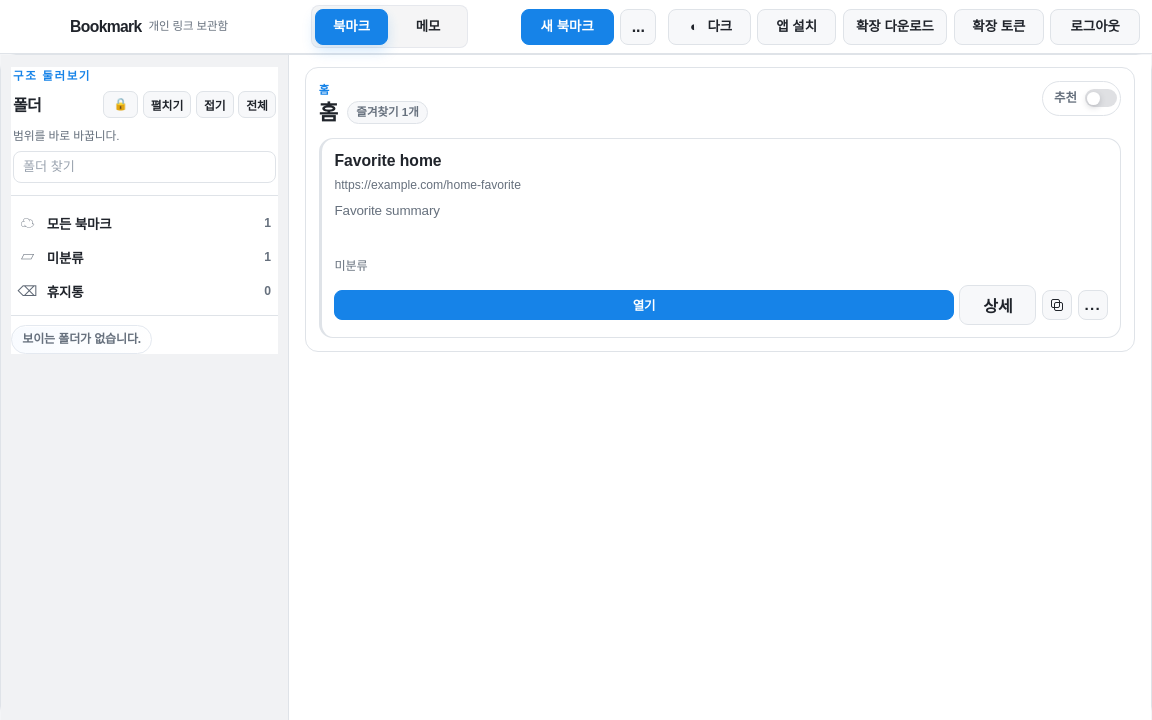
Test: bookmark dashboard › keeps home recommendations off until the recommendation toggle is enabled
This screenshot has width=1152, height=720.
Expected: the text "Home recommendation" is not shown
Click the button with aria-label "추천 보기". click: (1081, 98)
box: [1042,81,1121,116]
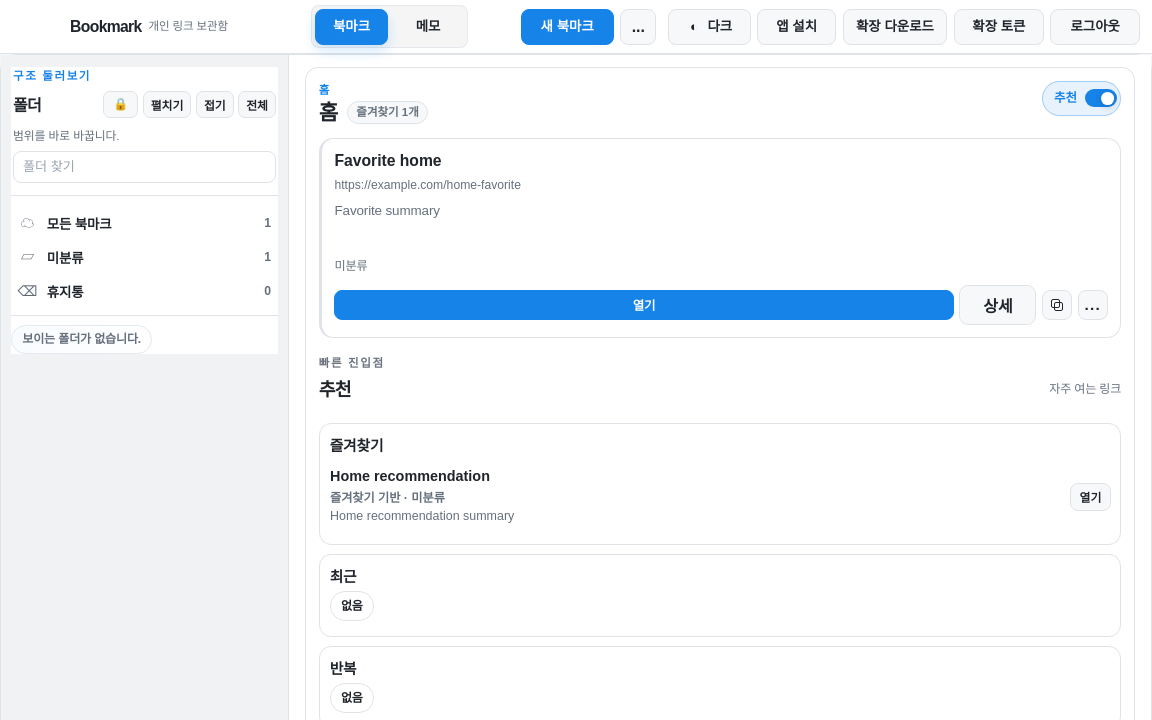
Expected: the text "Home recommendation" is shown, [330,468,490,484]
Expected: the heading "추천" is shown, [319,375,351,401]
